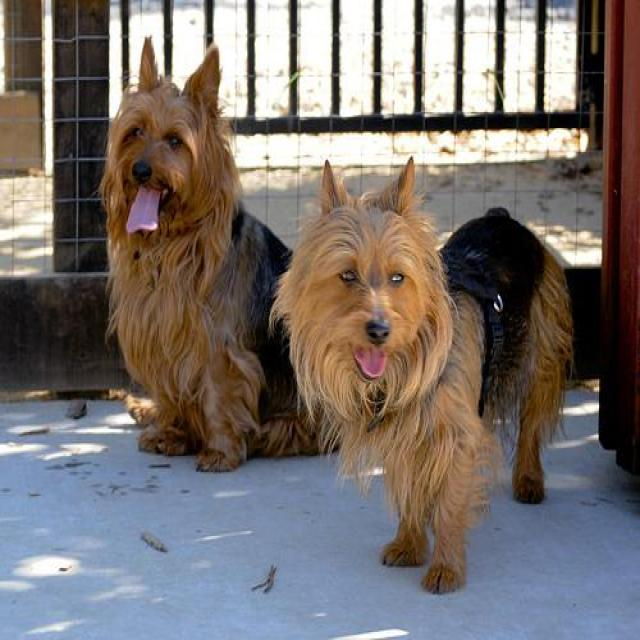happy: (274, 152, 589, 610), (104, 41, 262, 500)
